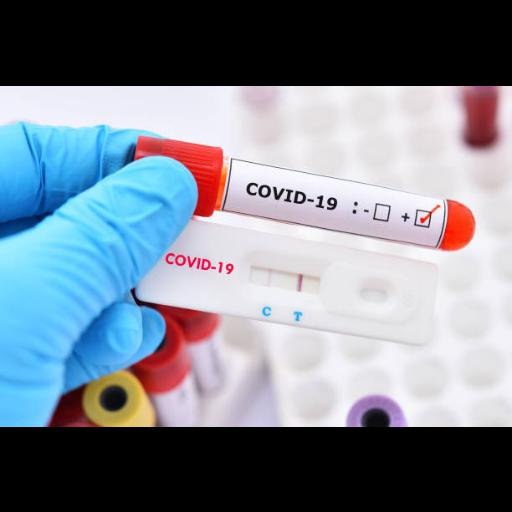Pos: (135, 208, 439, 345)
